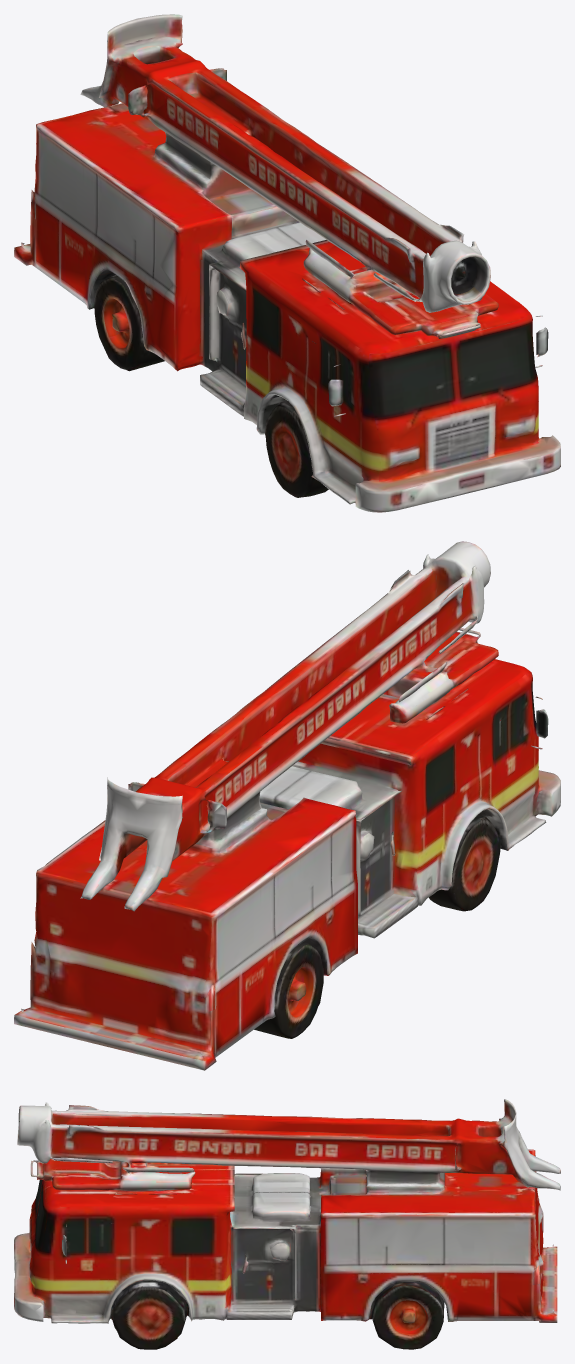
3 views of the same model, one above another, from view 1: azimuth 30°, elevation 25°; view 2: azimuth 150°, elevation 25°; view 3: azimuth 270°, elevation 25° (orthographic). The views are drawn at different scales.
Parts seen in each view (by area): view 1: Object_2; view 2: Object_2; view 3: Object_2.
Boxes of the visible parts, x1,y1,x2,y2 form: Object_2: (14,14,560,512); Object_2: (14,541,560,1070); Object_2: (14,1099,560,1349).
Size of the model in its own units: 0.6565 by 0.798 by 1.89.
Materials: 1 (1 with a texture image).
